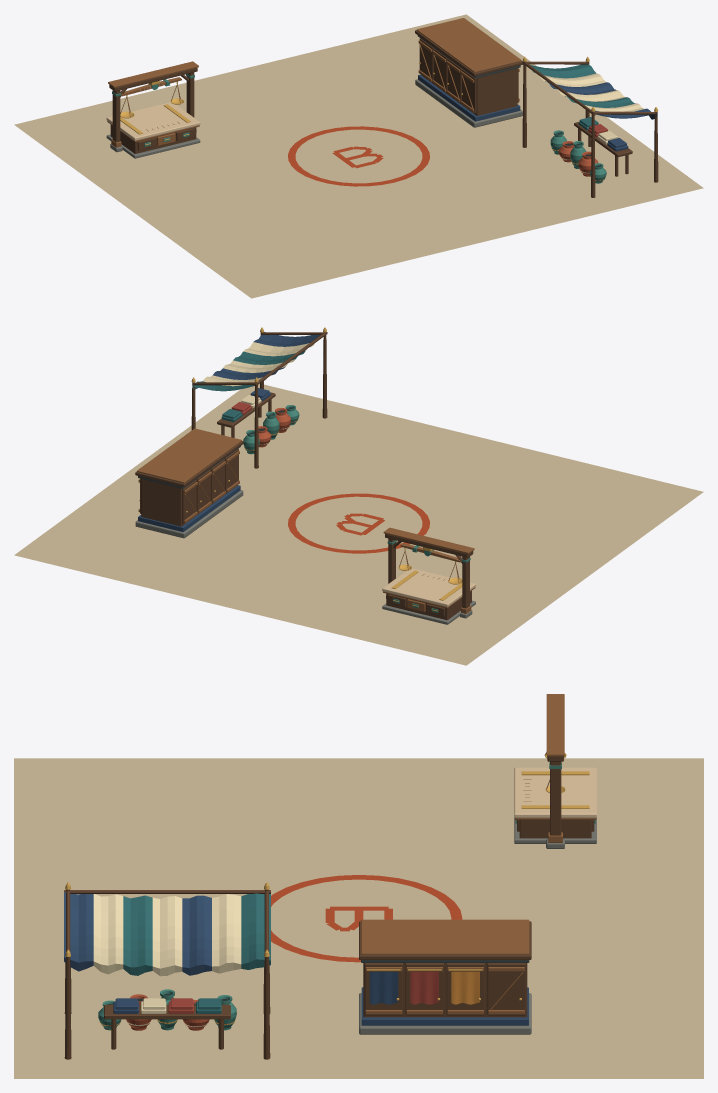
File: room-b.glb
3 views of the same model, one above another, from view 1: azimuth 30°, elevation 25°; view 2: azimuth 150°, elevation 25°; view 3: azimuth 270°, elevation 25° (orthographic). The views are drawn at different scales.
Parts seen in each view (by area): view 1: Surveyed floor · room-b, Copper flashing, Bazaar · indigo dye stall · timber, Polished ledger slab, Shuttered timber case, Bazaar · indigo dye stall · linen, Bazaar · indigo dye stall · teal, Bazaar · indigo dye stall · indigo, Cabinet stone feet, Bazaar · indigo dye stall · patina, Painted toe rail, Lintel flashing (+4 smaller); view 2: Surveyed floor · room-b, Copper flashing, Bazaar · indigo dye stall · timber, Polished ledger slab, Shuttered timber case, Bazaar · indigo dye stall · linen, Bazaar · indigo dye stall · indigo, Bazaar · indigo dye stall · teal, Cabinet stone feet, Bazaar · indigo dye stall · patina, Painted toe rail, Lintel flashing; view 3: Surveyed floor · room-b, Bazaar · indigo dye stall · linen, Copper flashing, Bazaar · indigo dye stall · indigo, Bazaar · indigo dye stall · teal, Bazaar · indigo dye stall · timber, Polished ledger slab, Cabinet stone feet, Joined door.003, Painted toe rail, Shuttered timber case, Lintel flashing (+10 smaller).
Part boxes in pixels (<box>): Surveyed floor · room-b: <box>14,14,703,298</box>; Copper flashing: <box>416,18,521,72</box>; Bazaar · indigo dye stall · timber: <box>522,61,658,197</box>; Polished ledger slab: <box>106,102,200,140</box>; Shuttered timber case: <box>421,68,517,115</box>; Bazaar · indigo dye stall · linen: <box>540,73,645,144</box>; Bazaar · indigo dye stall · teal: <box>530,64,635,130</box>; Bazaar · indigo dye stall · indigo: <box>545,81,657,151</box>; Cabinet stone feet: <box>415,79,522,127</box>; Bazaar · indigo dye stall · patina: <box>550,130,606,183</box>; Painted toe rail: <box>418,74,520,121</box>; Lintel flashing: <box>108,61,198,87</box>; Surveyed floor · room-b: <box>14,383,703,665</box>; Copper flashing: <box>137,428,241,483</box>; Bazaar · indigo dye stall · timber: <box>191,332,327,468</box>; Polished ledger slab: <box>382,568,475,606</box>; Shuttered timber case: <box>141,479,236,526</box>; Bazaar · indigo dye stall · linen: <box>203,342,314,408</box>; Bazaar · indigo dye stall · indigo: <box>213,332,320,401</box>; Bazaar · indigo dye stall · teal: <box>192,350,305,422</box>; Cabinet stone feet: <box>135,490,243,538</box>; Bazaar · indigo dye stall · patina: <box>243,405,299,454</box>; Painted toe rail: <box>138,485,240,531</box>; Lintel flashing: <box>383,527,474,553</box>; Surveyed floor · room-b: <box>14,758,703,1078</box>; Bazaar · indigo dye stall · linen: <box>93,894,241,1013</box>; Copper flashing: <box>361,919,529,954</box>; Bazaar · indigo dye stall · indigo: <box>64,892,211,1013</box>; Bazaar · indigo dye stall · teal: <box>123,893,270,1013</box>; Bazaar · indigo dye stall · timber: <box>64,889,270,1059</box>; Polished ledger slab: <box>514,767,596,818</box>; Cabinet stone feet: <box>359,993,531,1034</box>; Joined door.003: <box>487,963,525,1015</box>; Painted toe rail: <box>361,987,528,1025</box>; Shuttered timber case: <box>363,963,527,1017</box>; Lintel flashing: <box>546,694,564,756</box>.
Size of the model in its own units: 22 by 4.19 by 20.
